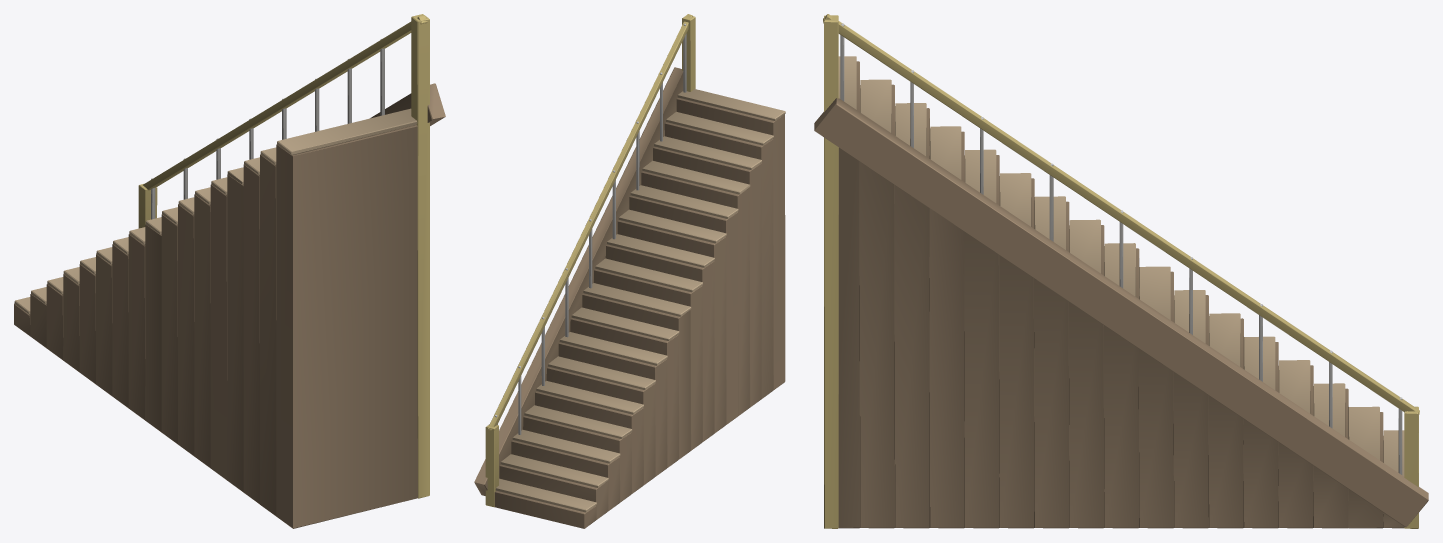
File: home_stairs_in__oak_low.glb
3 renders of one model, left to right at view 1: azimuth 30°, elevation 25°; view 2: azimuth 150°, elevation 25°; view 3: azimuth 270°, elevation 25°, orthographic. The views are drawn at different scales.
Size of the model in its own units: 1.43 by 4.37 by 4.77.
